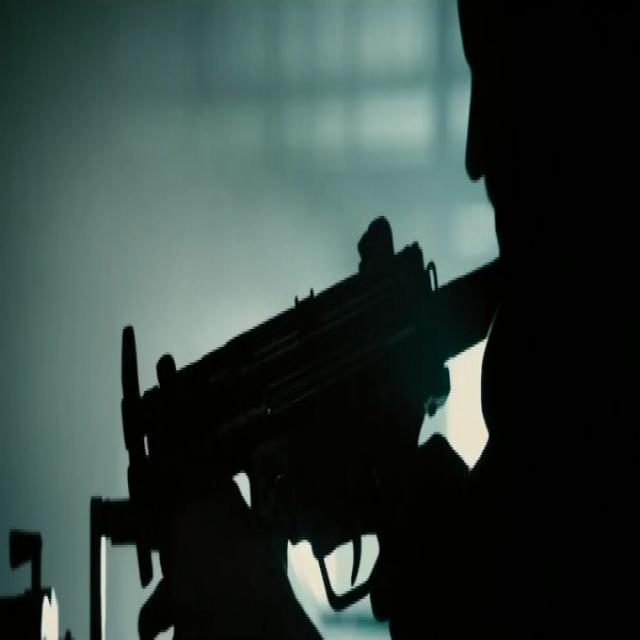weapon: (108, 215, 500, 615)
